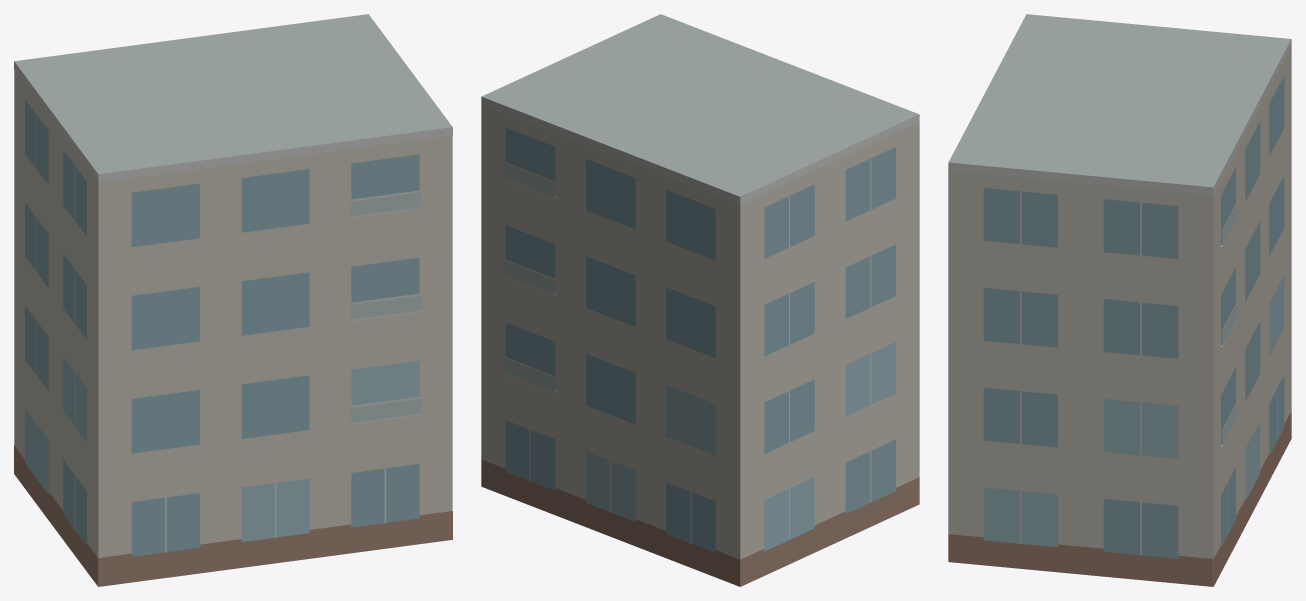
Rendered from residential-e9d9ceb6-f58f-4ebd-8c76-fb6a920d9e89.glb.
3 renders of one model, left to right at view 1: azimuth 30°, elevation 25°; view 2: azimuth 150°, elevation 25°; view 3: azimuth 270°, elevation 25°, orthographic. The views are drawn at different scales.
Visible parts, largest first — view 1: residential-e9d9ceb6-f58f-4ebd-8c76-fb6a920d9e89.tmp; view 2: residential-e9d9ceb6-f58f-4ebd-8c76-fb6a920d9e89.tmp; view 3: residential-e9d9ceb6-f58f-4ebd-8c76-fb6a920d9e89.tmp.
Boxes of the visible parts, x1=… form: residential-e9d9ceb6-f58f-4ebd-8c76-fb6a920d9e89.tmp: x1=14, y1=14, x2=452, y2=586; residential-e9d9ceb6-f58f-4ebd-8c76-fb6a920d9e89.tmp: x1=481, y1=14, x2=919, y2=586; residential-e9d9ceb6-f58f-4ebd-8c76-fb6a920d9e89.tmp: x1=948, y1=14, x2=1291, y2=586.
Bounding box in the file's own units: 11.36 × 12.2 × 9.51.
